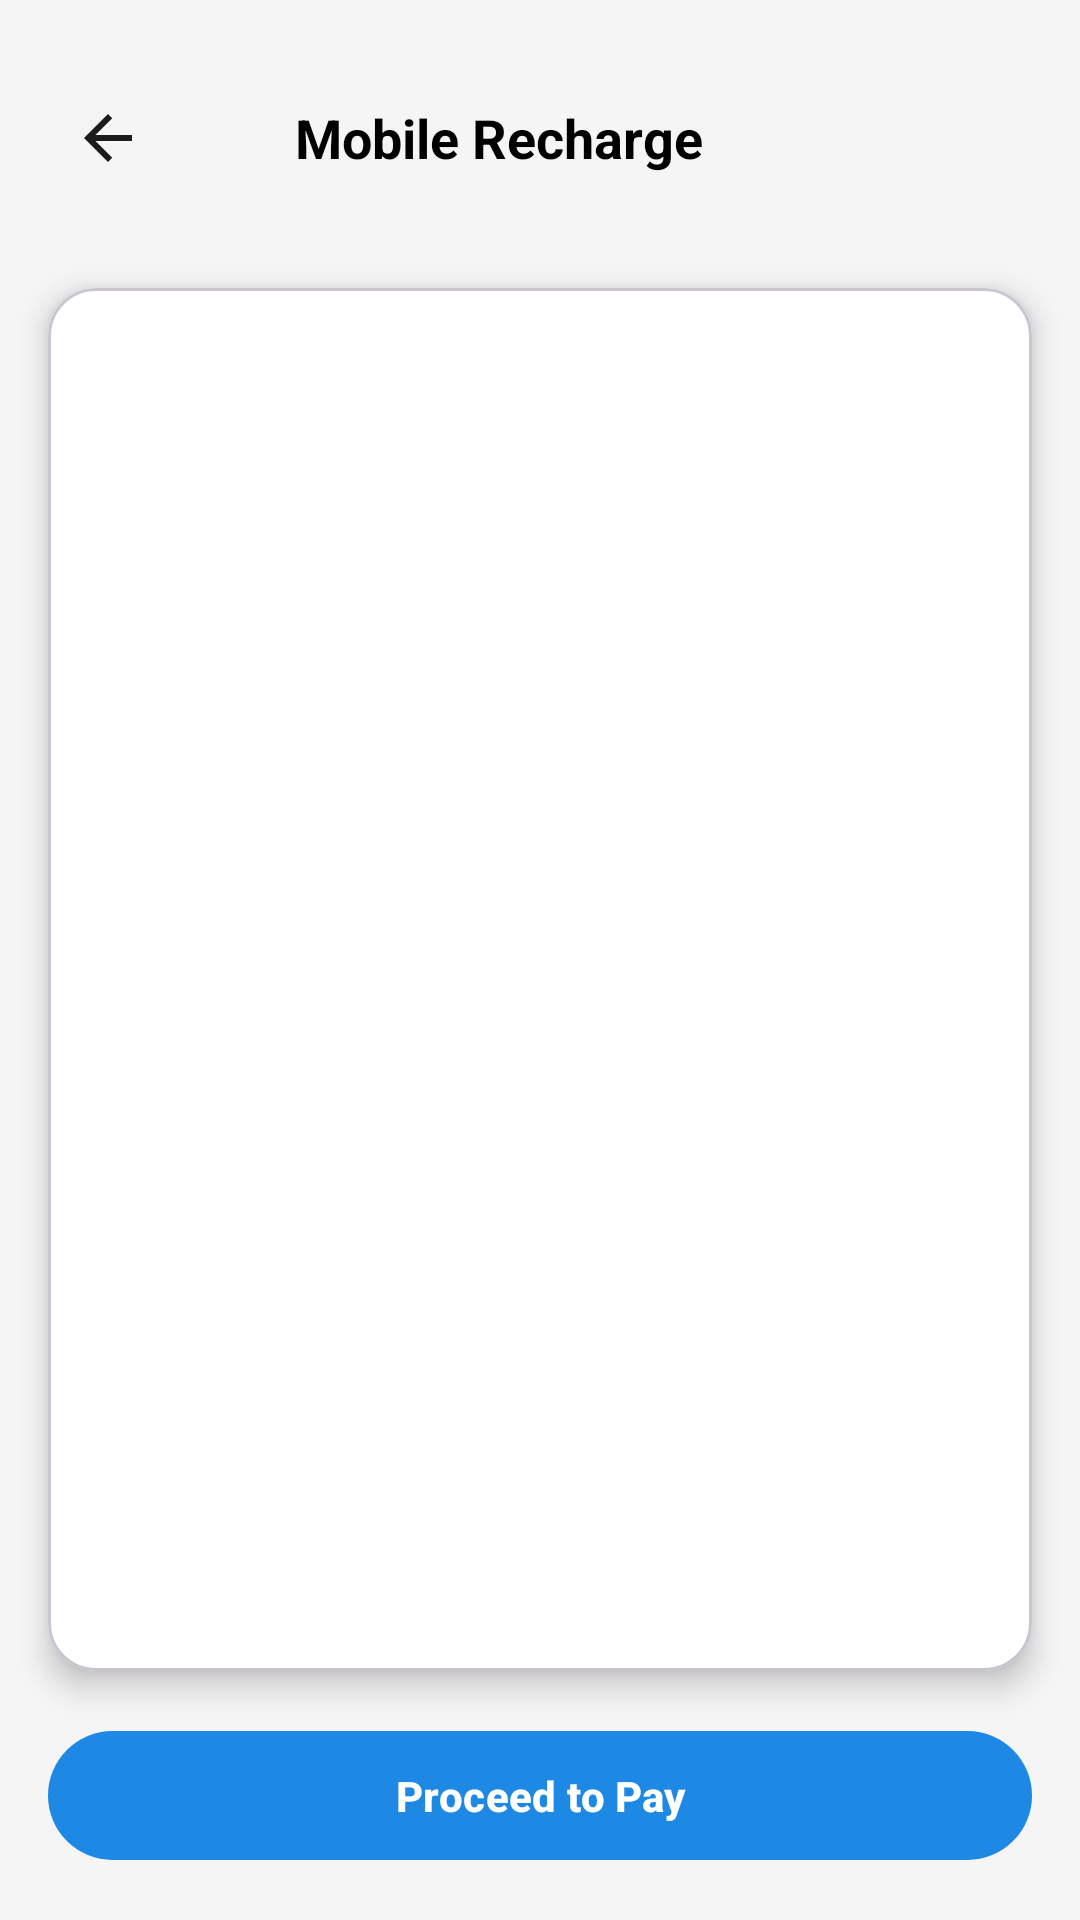

Locate icon controls on the screen. Image size 1080px x 1920px, boxes as detection(x1, y1, x2, y2).
Back button: detection(84, 114, 132, 162)
